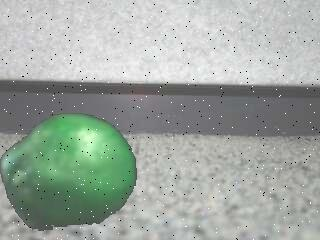Lime: (0, 110, 137, 231)
